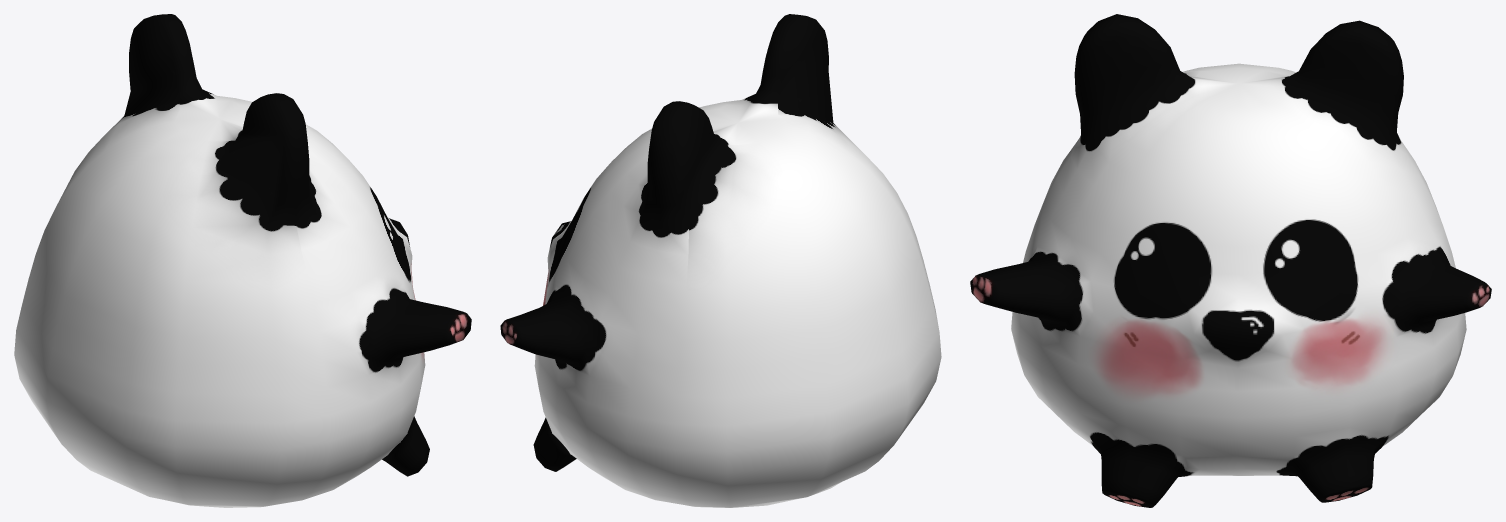
File: panda fbx- glavni lik.fbx
3 renders of one model, left to right at view 1: azimuth 30°, elevation 25°; view 2: azimuth 150°, elevation 25°; view 3: azimuth 270°, elevation 25°, orthographic. The views are drawn at different scales.
Parts seen in each view (by area): view 1: panda; view 2: panda; view 3: panda.
Boxes of the visible parts, box(x1,y1,x2,y2) form: panda: box(14, 14, 471, 507); panda: box(500, 14, 941, 507); panda: box(970, 14, 1491, 507).
Bounding box in the file's own units: 59.61 × 66.21 × 74.23.
Materials: 1 (1 with a texture image).
